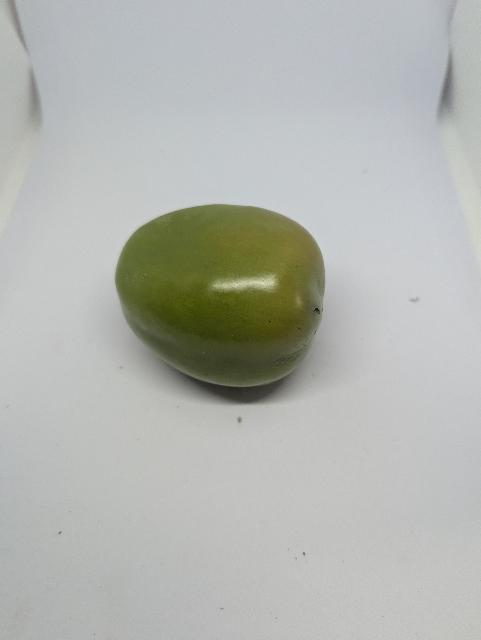green: (105, 195, 338, 401)
